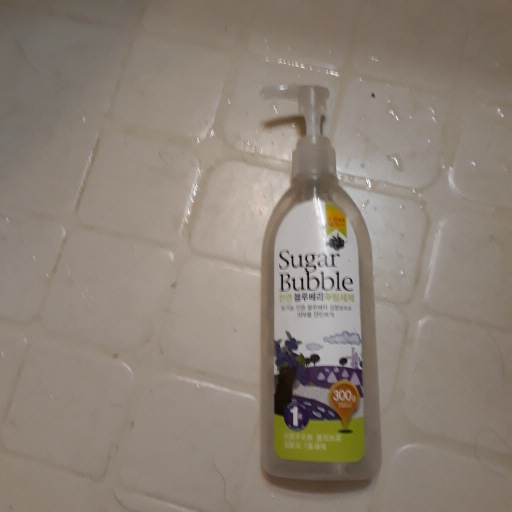Plastic_3: (253, 79, 381, 486)
